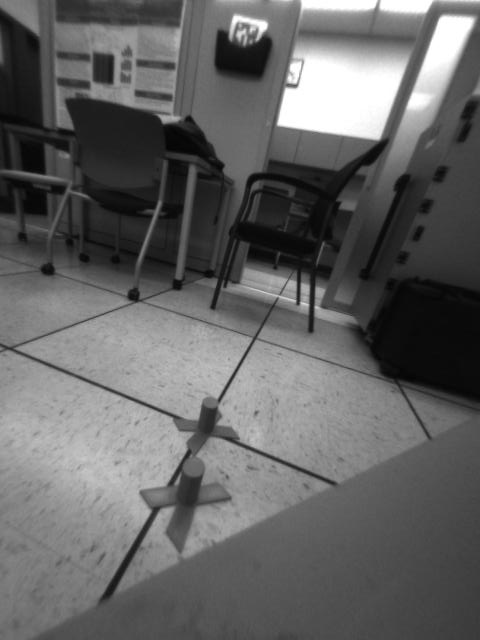X: (140, 456, 231, 552), (172, 396, 243, 456)
